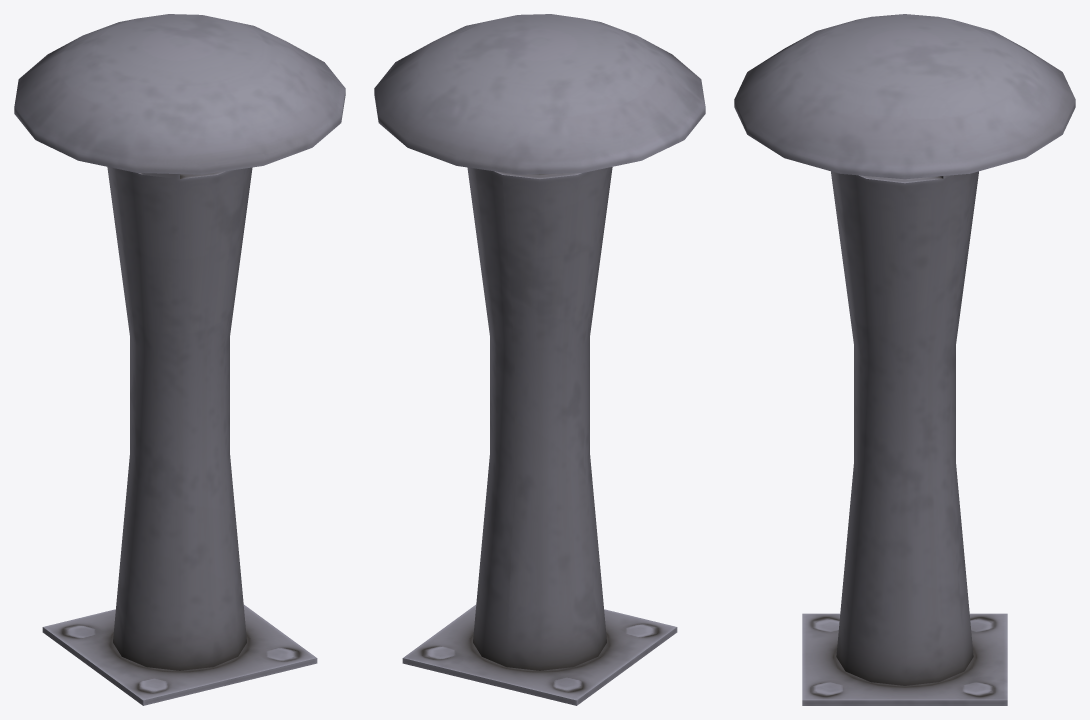
Rendered from RoofVent01_3.FBX.
3 renders of one model, left to right at view 1: azimuth 30°, elevation 25°; view 2: azimuth 150°, elevation 25°; view 3: azimuth 270°, elevation 25°, orthographic. The views are drawn at different scales.
Visible parts, largest first — view 1: RoofVent01_3; view 2: RoofVent01_3; view 3: RoofVent01_3.
Boxes of the visible parts, <box> form: RoofVent01_3: <box>14,14,345,705</box>; RoofVent01_3: <box>374,14,705,705</box>; RoofVent01_3: <box>734,14,1075,705</box>.
Size of what is drawn, in the model's own units: 0.8316 by 1.67 by 0.8316.
